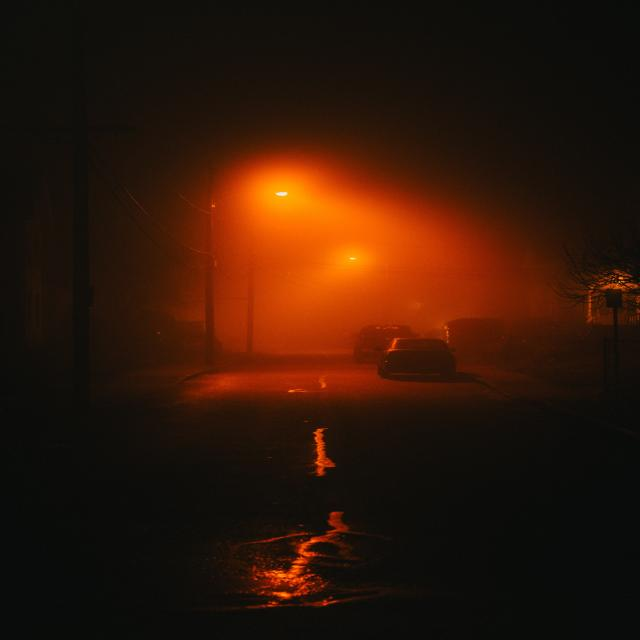Street Light: (246, 192, 290, 360)
